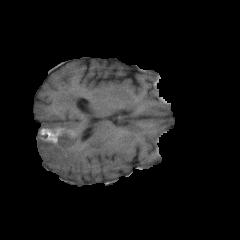glioma: (37, 95, 128, 175)
